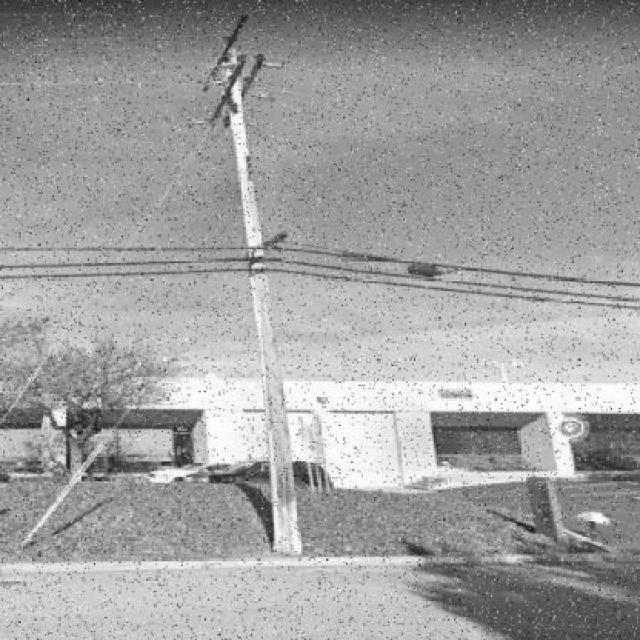pole: (150, 9, 372, 580)
